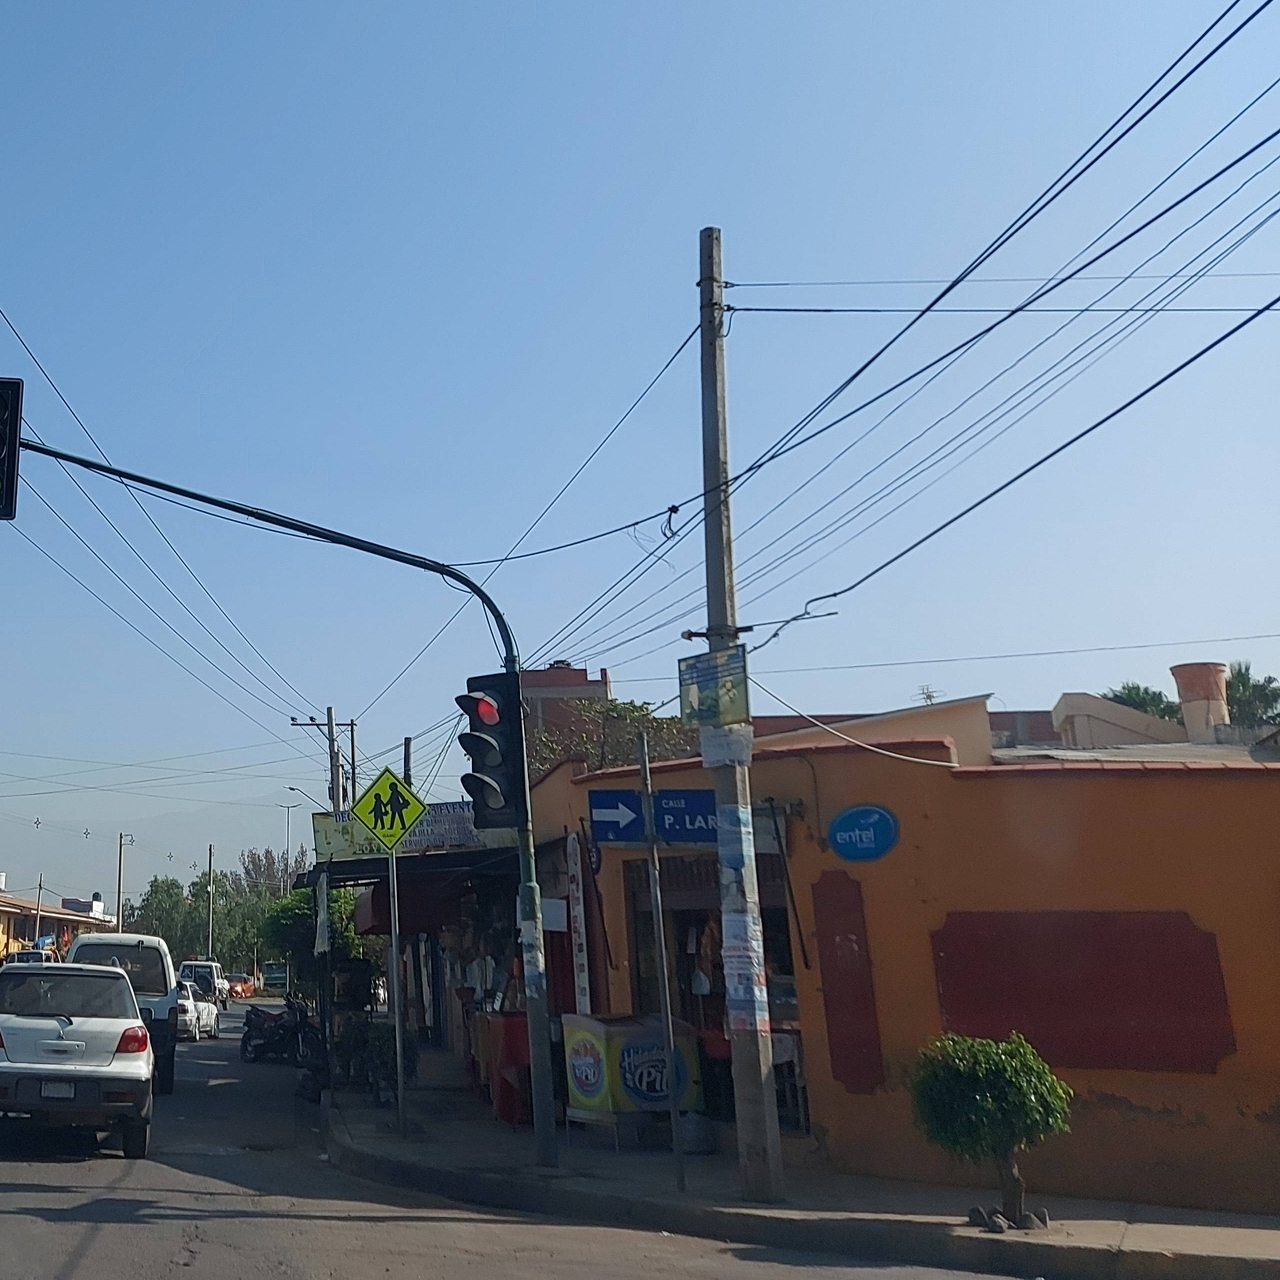zona-escolar: (350, 767, 423, 846)
